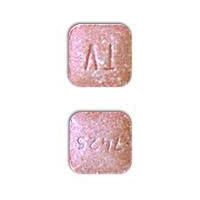Square: (68, 22, 132, 88), (69, 111, 132, 174)
